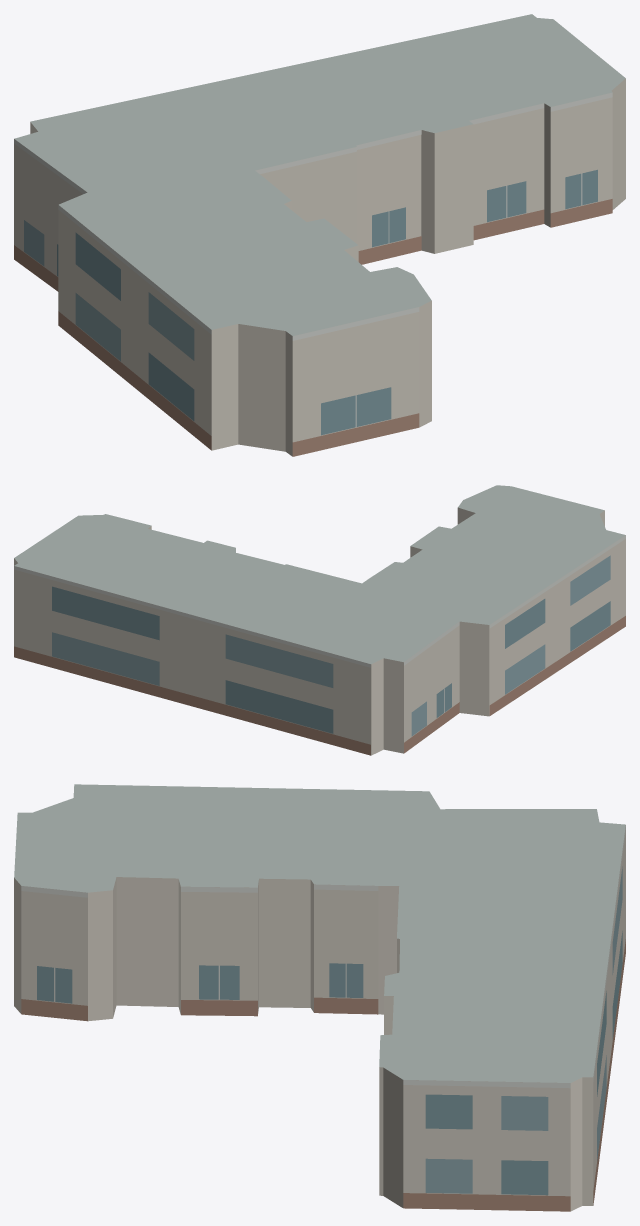
The model's file is survey-upis-32837861.glb.
The picture shows the model from 3 angles, top to bottom: view 1: azimuth 30°, elevation 25°; view 2: azimuth 150°, elevation 25°; view 3: azimuth 270°, elevation 25°; orthographic projection. The views are drawn at different scales.
Visible parts, largest first — view 1: survey-upis-32837861.tmp; view 2: survey-upis-32837861.tmp; view 3: survey-upis-32837861.tmp.
Boxes of the visible parts, x1,y1,x2,y2 form: survey-upis-32837861.tmp: (14, 14, 625, 456); survey-upis-32837861.tmp: (14, 485, 625, 755); survey-upis-32837861.tmp: (14, 784, 625, 1211).
Bounding box in the file's own units: 30.41 × 6.1 × 26.32.
